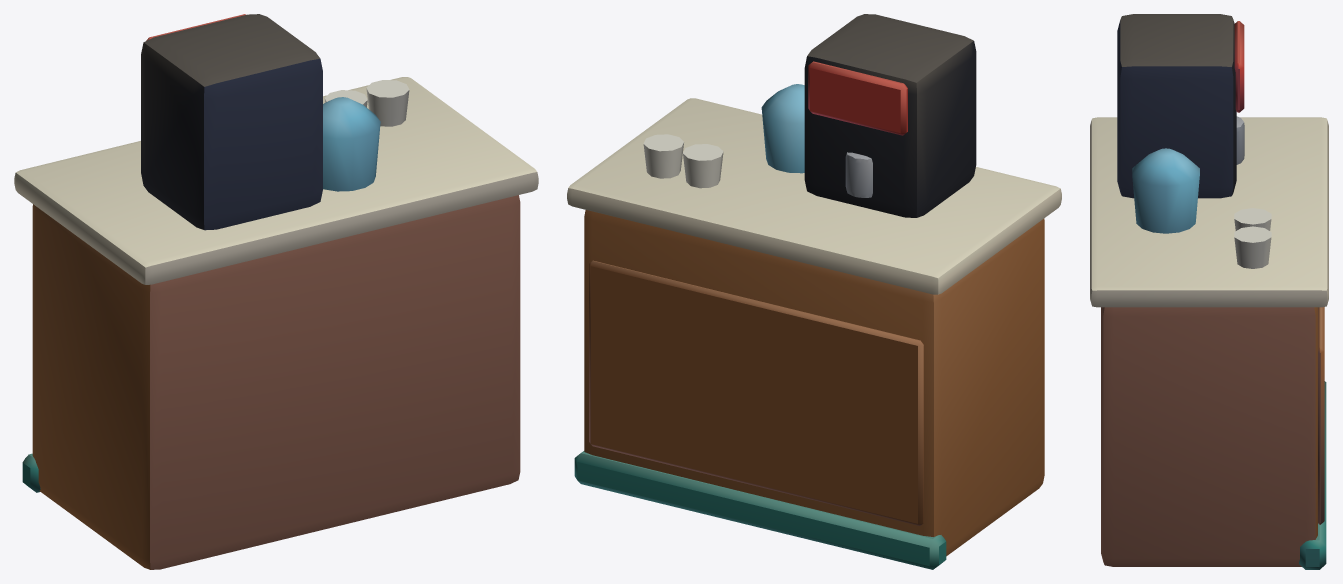
The model's file is CoffeeBar.fbx.
3 renders of one model, left to right at view 1: azimuth 30°, elevation 25°; view 2: azimuth 150°, elevation 25°; view 3: azimuth 270°, elevation 25°, orthographic. The views are drawn at different scales.
Visible parts, largest first — view 1: SM_Prop_CoffeeBar; view 2: SM_Prop_CoffeeBar; view 3: SM_Prop_CoffeeBar.
Boxes of the visible parts, <box> form: SM_Prop_CoffeeBar: <box>14,14,538,569</box>; SM_Prop_CoffeeBar: <box>567,14,1061,569</box>; SM_Prop_CoffeeBar: <box>1090,14,1328,569</box>.
Size of the model in its own units: 3.8 by 4.3 by 2.2.
